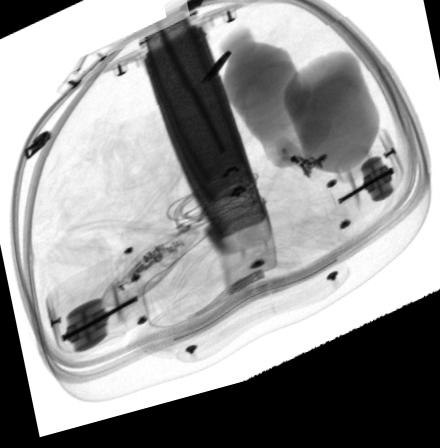Lighter: (277, 154, 325, 195)
